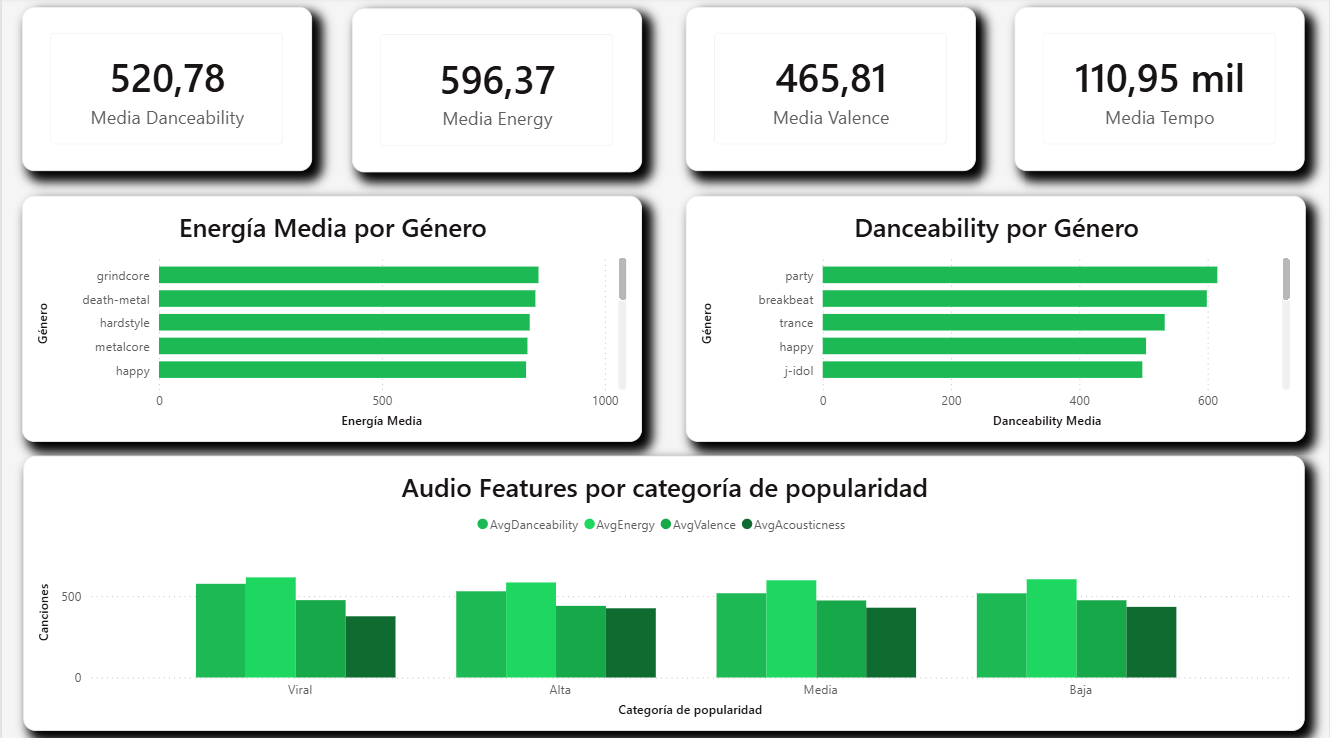

The page's visual inventory and layout, read from the dashboard file:
{"tool":"powerbi","page":{"name":"Audio Features","canvas":[1280,720],"ordinal":1},"visuals":[{"type":"cardVisual","fields":{"Data":["_AudioFeat.AvgDanceability"]},"box":[19.3,9.7,279.9,158],"z":0},{"type":"cardVisual","fields":{"Data":["_AudioFeat.AvgEnergy"]},"box":[337.8,10.9,279.9,158],"z":1000},{"type":"cardVisual","fields":{"Data":["_AudioFeat.AvgValence"]},"box":[659.9,9.7,279.9,158],"z":2000},{"type":"cardVisual","fields":{"Data":["_AudioFeat.AvgTempo"]},"box":[977.2,9.7,279.9,158],"z":3000},{"type":"barChart","title":"Energía Media por Género","fields":{"Category":["tracks.track_genre"],"Y":["_AudioFeat.AvgEnergy"]},"box":[19.3,191.8,598.4,237.7],"z":4000},{"type":"barChart","title":"Danceability por Género","fields":{"Category":["tracks.track_genre"],"Y":["_AudioFeat.AvgDanceability"]},"box":[659.9,191.8,598.4,237.7],"z":5000},{"type":"clusteredColumnChart","title":"Audio Features por categoría de popularidad","fields":{"Category":["tracks.popularity_category"],"Y":["_AudioFeat.AvgDanceability","_AudioFeat.AvgEnergy","_AudioFeat.AvgValence","_AudioFeat.AvgAcousticness"]},"box":[20.5,442.8,1236.6,265.4],"z":6000}]}

Visuals, with their boxes in screenshot pixels (x1, y1, x2, y2), scaled from the page's 1280x720 canvas onto the 1330x738 screenshot:
cardVisual - _AudioFeat.AvgDanceability: rect(20, 10, 311, 172)
cardVisual - _AudioFeat.AvgEnergy: rect(351, 11, 642, 173)
cardVisual - _AudioFeat.AvgValence: rect(686, 10, 977, 172)
cardVisual - _AudioFeat.AvgTempo: rect(1015, 10, 1306, 172)
"Energía Media por Género" barChart: rect(20, 197, 642, 440)
"Danceability por Género" barChart: rect(686, 197, 1307, 440)
"Audio Features por categoría de popularidad" clusteredColumnChart: rect(21, 454, 1306, 726)
